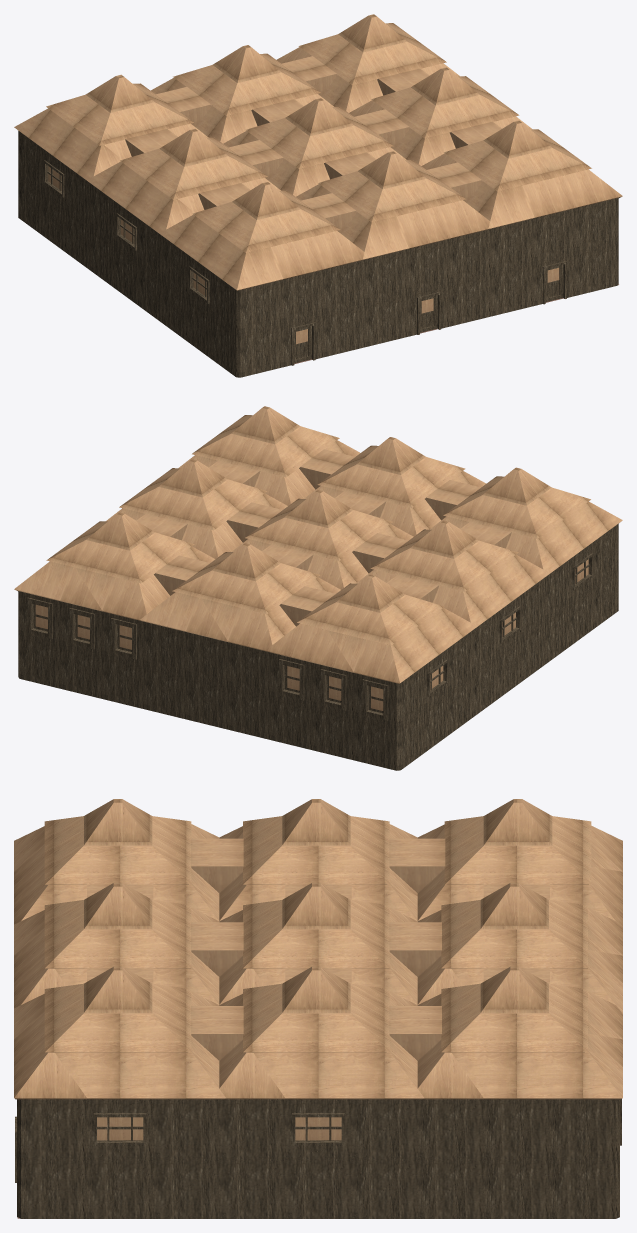
File: House-9.obj
The picture shows the model from 3 angles, top to bottom: view 1: azimuth 30°, elevation 25°; view 2: azimuth 150°, elevation 25°; view 3: azimuth 270°, elevation 25°; orthographic projection. The views are drawn at different scales.
Parts seen in each view (by area): view 1: mergedBlocks; view 2: mergedBlocks; view 3: mergedBlocks.
Boxes of the visible parts, x1,y1,x2,y2 form: mergedBlocks: [14, 14, 622, 377]; mergedBlocks: [14, 406, 622, 770]; mergedBlocks: [14, 799, 622, 1218].
Bounding box in the file's own units: 9.21 × 3.46 × 9.21.
12 materials, 11 textured.
